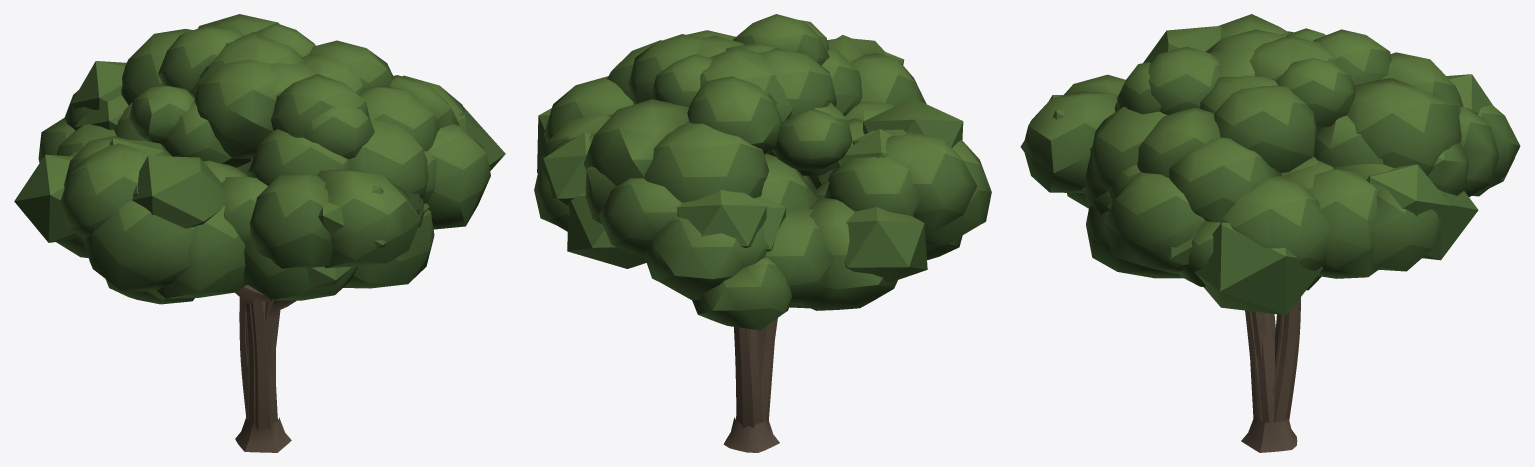
The model's file is arbol_platano.glb.
The picture shows the model from 3 angles, left to right: view 1: azimuth 30°, elevation 25°; view 2: azimuth 150°, elevation 25°; view 3: azimuth 270°, elevation 25°; orthographic projection. The views are drawn at different scales.
Parts seen in each view (by area): view 1: hd_0, hd_2, hd_3, hd_1, lo_0, lo_2, hd_0_trunk, lo_3, lo_1, hd_1_trunk; view 2: hd_3, hd_2, hd_0, lo_3, lo_2, lo_0, hd_0_trunk, hd_2_trunk, lo_1, hd_1; view 3: hd_2, hd_0, hd_3, hd_1, lo_2, lo_3, hd_0_trunk, lo_0, hd_2_trunk, hd_1_trunk.
Boxes of the visible parts, <box> form: hd_0: <box>82,23,436,298</box>; hd_2: <box>56,14,459,300</box>; hd_3: <box>38,25,464,238</box>; hd_1: <box>105,63,490,304</box>; lo_0: <box>132,155,386,247</box>; lo_2: <box>14,43,505,300</box>; hd_0_trunk: <box>235,290,291,452</box>; lo_3: <box>71,61,146,196</box>; lo_1: <box>75,95,490,212</box>; hd_1_trunk: <box>238,285,295,378</box>; hd_3: <box>544,35,977,330</box>; hd_2: <box>583,30,897,310</box>; hd_0: <box>534,14,991,245</box>; lo_3: <box>543,129,949,247</box>; lo_2: <box>537,78,927,282</box>; lo_0: <box>567,35,963,268</box>; hd_0_trunk: <box>723,319,779,452</box>; hd_2_trunk: <box>734,327,762,428</box>; lo_1: <box>754,129,892,251</box>; hd_1: <box>725,20,962,260</box>; hd_2: <box>1067,28,1463,222</box>; hd_0: <box>1023,29,1443,278</box>; hd_3: <box>1092,14,1520,270</box>; hd_1: <box>1082,47,1383,290</box>; lo_2: <box>1194,43,1322,315</box>; lo_3: <box>1366,74,1492,219</box>; hd_0_trunk: <box>1241,313,1297,452</box>; lo_0: <box>1020,26,1478,260</box>; hd_2_trunk: <box>1260,297,1300,423</box>; hd_1_trunk: <box>1245,310,1266,369</box>.
Bounding box in the file's own units: 6.4 × 5.73 × 6.42.
